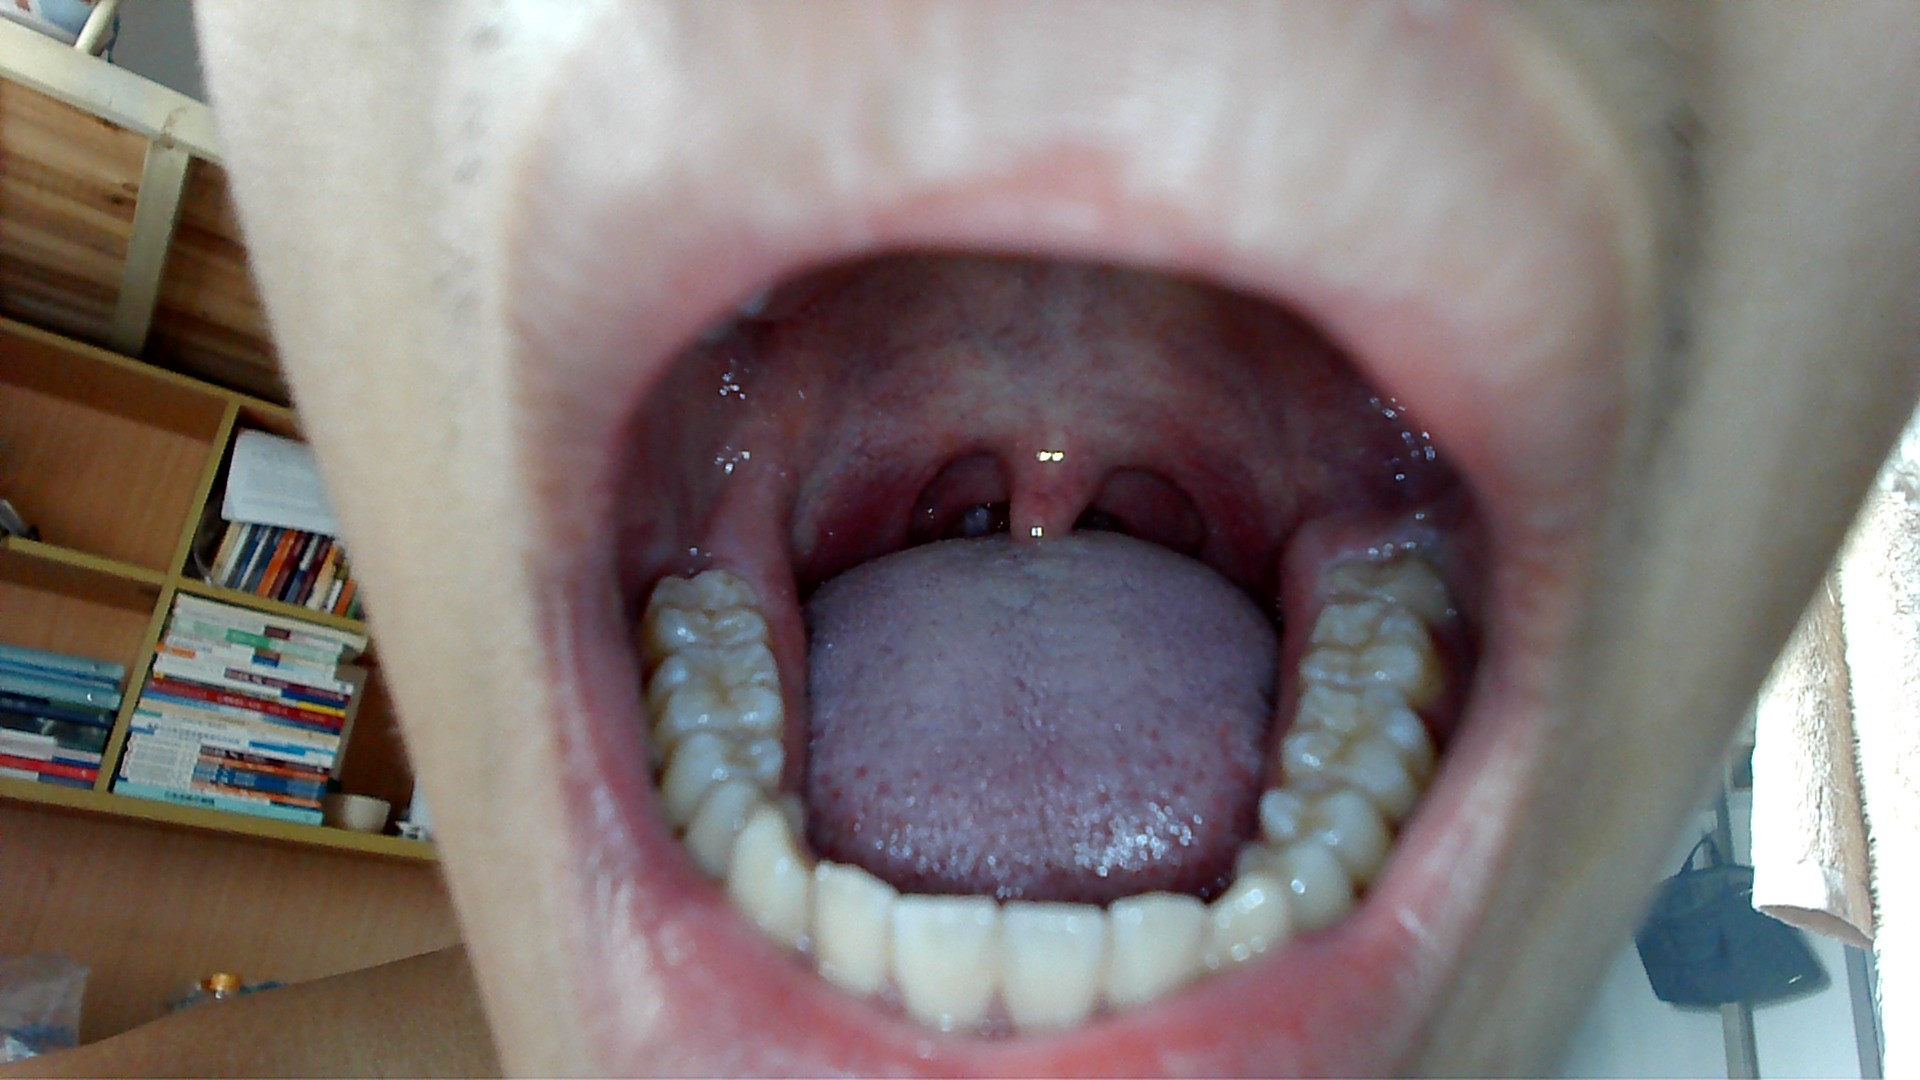throat: (1170, 429, 1258, 564), (874, 419, 945, 541)
